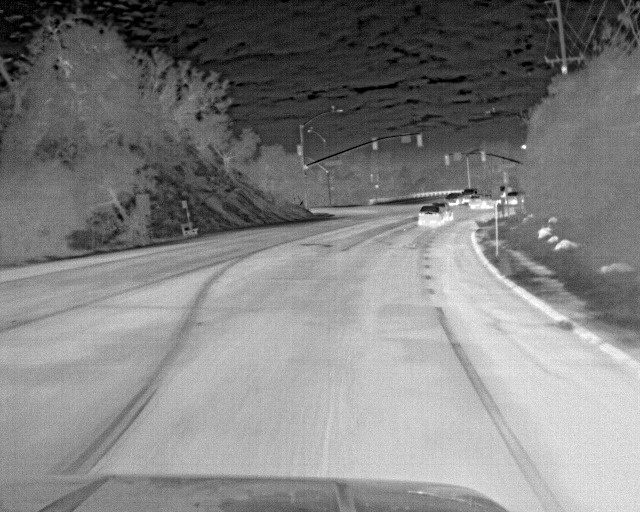vehicle: (417, 204, 451, 226), (469, 190, 494, 212)
